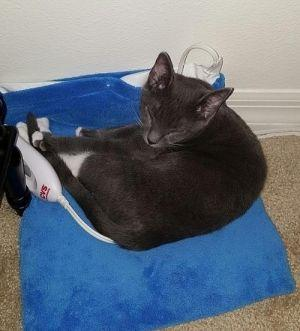rblue: (124, 36, 243, 159)
